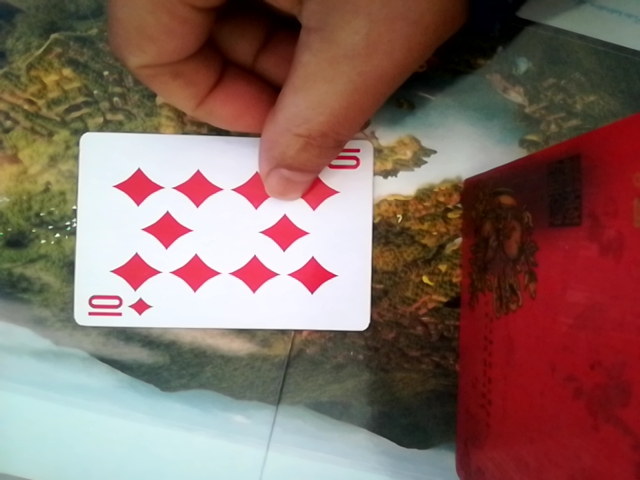fk 10: (66, 132, 379, 326)
